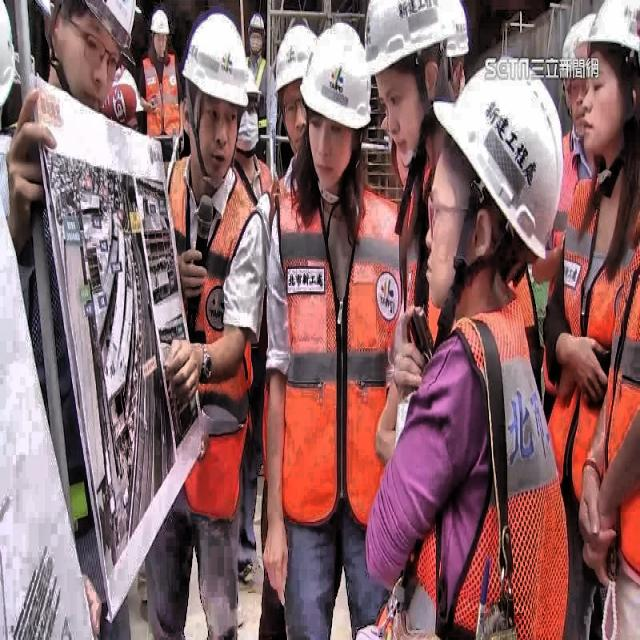safety_helmet: (431, 55, 566, 266), (298, 20, 374, 135), (180, 10, 254, 114)
safety_jacket: (414, 287, 572, 639), (265, 179, 410, 532), (544, 174, 638, 580), (165, 155, 263, 522)
